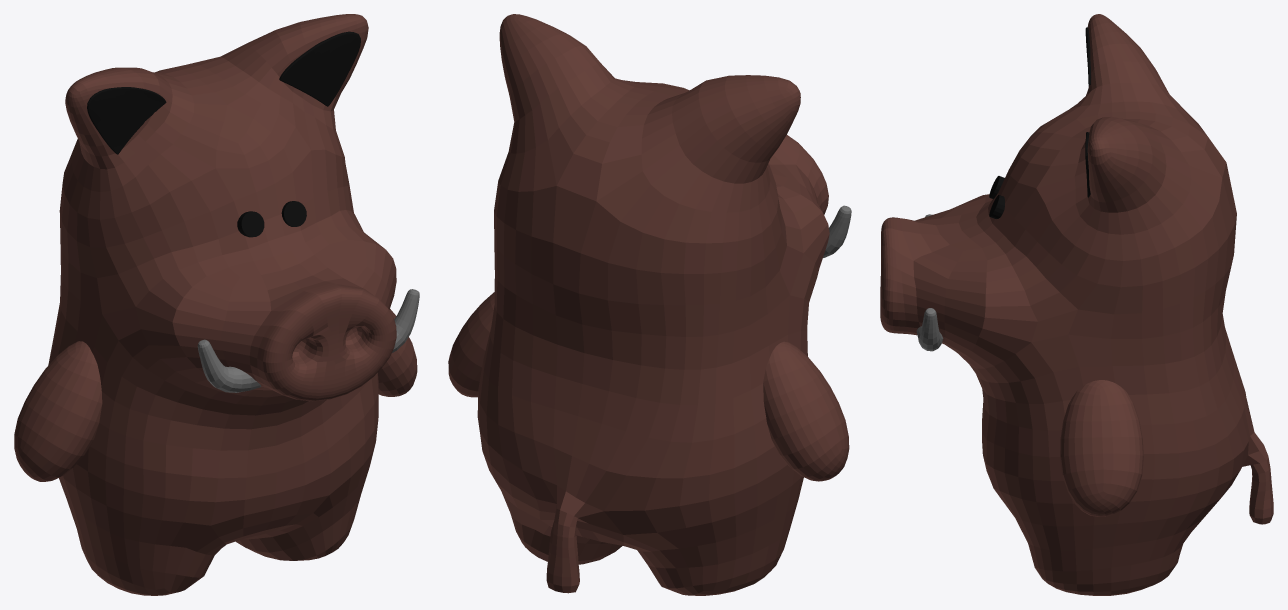
File: boar.fbx
3 views of the same model, side by side, from view 1: azimuth 30°, elevation 25°; view 2: azimuth 150°, elevation 25°; view 3: azimuth 270°, elevation 25° (orthographic). The views are drawn at different scales.
Parts seen in each view (by area): view 1: Boar Body; view 2: Boar Body; view 3: Boar Body.
Part boxes in pixels (x1=…): Boar Body: x1=14, y1=14, x2=419, y2=595; Boar Body: x1=448, y1=14, x2=851, y2=595; Boar Body: x1=880, y1=14, x2=1273, y2=595.
Bounding box in the file's own units: 123 × 155 × 115.
